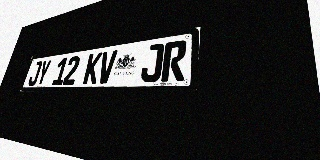1: (52, 57, 69, 85)
2: (62, 55, 81, 85)
J: (140, 43, 165, 82), (27, 61, 43, 86)
K: (82, 52, 103, 84)
R: (161, 40, 187, 82)
V: (96, 50, 118, 84)
Y: (35, 60, 52, 86)
